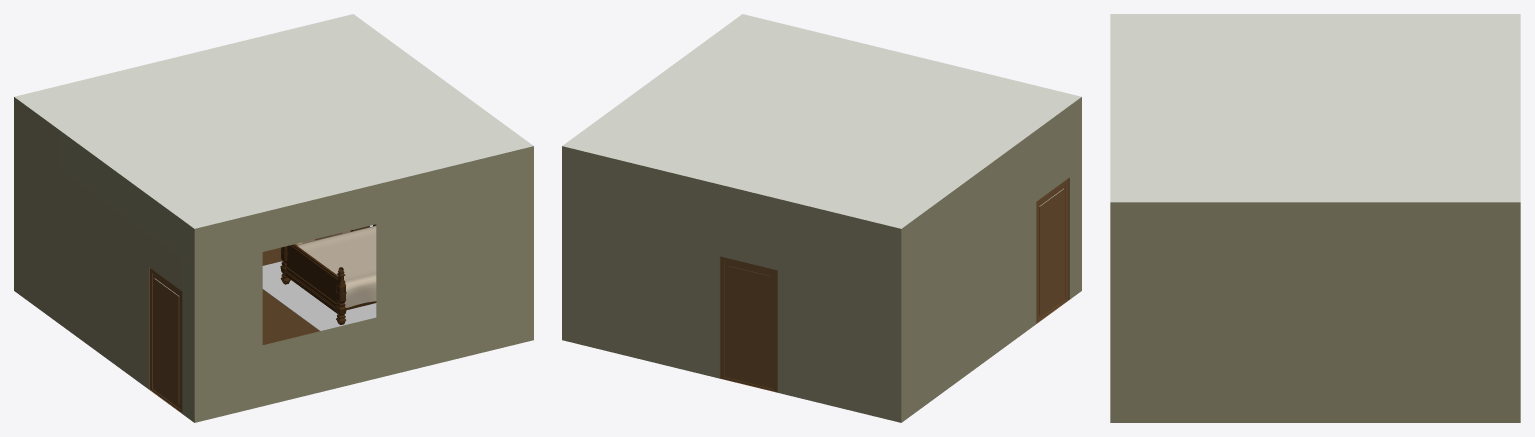
The model's file is Bedroom_V3.fbx.
3 views of the same model, side by side, from view 1: azimuth 30°, elevation 25°; view 2: azimuth 150°, elevation 25°; view 3: azimuth 270°, elevation 25° (orthographic). The views are drawn at different scales.
Visible parts, largest first — view 1: HouseBase, blanket, rug, main, rightfrontside; view 2: HouseBase; view 3: HouseBase.
Part boxes in pixels (box(x1,y1,x2,y2)): HouseBase: box(14, 14, 533, 422); blanket: box(297, 225, 376, 307); rug: box(262, 261, 376, 330); main: box(285, 244, 376, 313); rightfrontside: box(335, 270, 346, 324); HouseBase: box(562, 14, 1081, 422); HouseBase: box(1110, 14, 1520, 422).
Bounding box in the file's own units: 10967 × 6068 × 10101.
